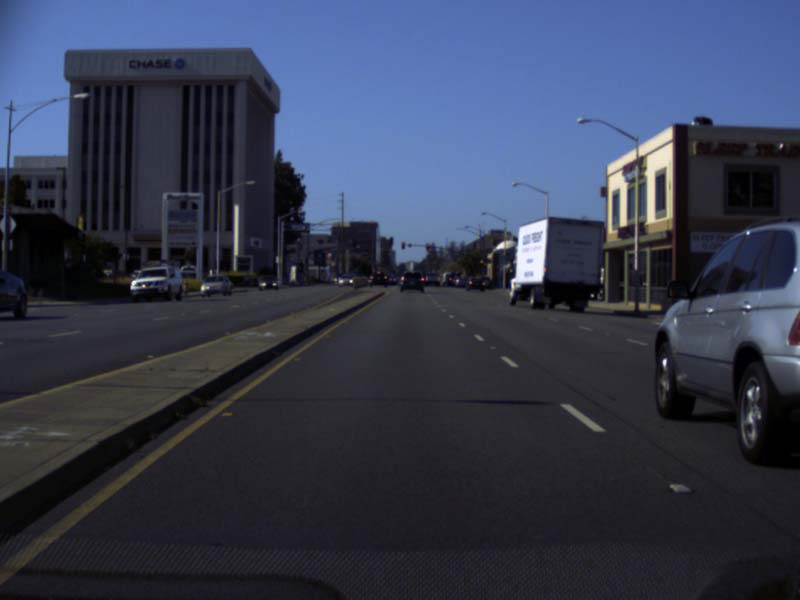Red: (425, 242, 430, 249), (400, 241, 404, 249)
